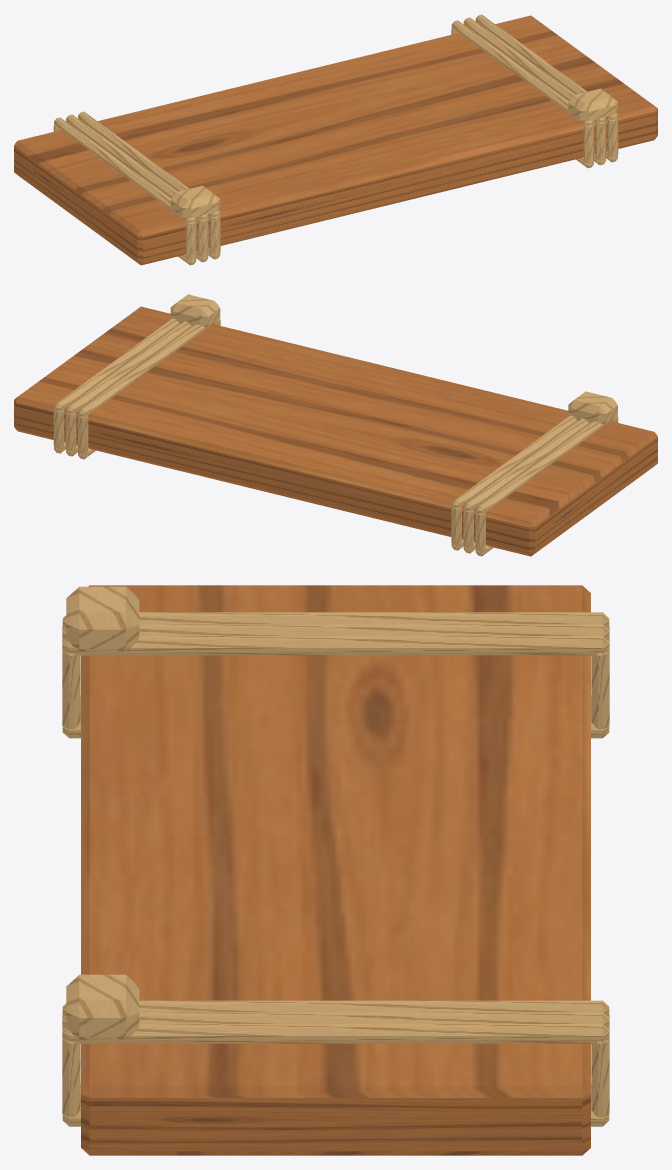
The model's file is bridge_board.glb.
The picture shows the model from 3 angles, top to bottom: view 1: azimuth 30°, elevation 25°; view 2: azimuth 150°, elevation 25°; view 3: azimuth 270°, elevation 25°; orthographic projection. The views are drawn at different scales.
Parts seen in each view (by area): view 1: wooden_plank, rope_wrap.001, rope_wrap.007, rope_wrap.003, rope_wrap.009, rope_wrap.005, rope_wrap.011, binding_knot, binding_knot.001, rope_edge.006, rope_edge.010, rope_edge.008 (+3 smaller); view 2: wooden_plank, rope_wrap.001, rope_wrap.007, rope_wrap.003, rope_wrap.005, rope_wrap.009, rope_wrap.011, binding_knot.001, binding_knot, rope_edge.007, rope_edge.009, rope_edge.011 (+3 smaller); view 3: wooden_plank, rope_wrap.011, rope_wrap.005, rope_wrap.001, rope_wrap.007, rope_wrap.003, rope_wrap.009, binding_knot, binding_knot.001, rope_edge.004, rope_edge.005, rope_edge.010 (+1 smaller).
Boxes of the visible parts, x1=… form: wooden_plank: x1=14, y1=15, x2=657, y2=265; rope_wrap.001: x1=54, y1=117, x2=196, y2=222; rope_wrap.007: x1=451, y1=20, x2=593, y2=125; rope_wrap.003: x1=66, y1=114, x2=208, y2=219; rope_wrap.009: x1=463, y1=17, x2=605, y2=122; rope_wrap.005: x1=78, y1=111, x2=220, y2=216; rope_wrap.011: x1=475, y1=14, x2=617, y2=119; binding_knot: x1=170, y1=185, x2=220, y2=219; binding_knot.001: x1=568, y1=88, x2=617, y2=122; rope_edge.006: x1=583, y1=123, x2=594, y2=163; rope_edge.010: x1=607, y1=118, x2=618, y2=157; rope_edge.008: x1=595, y1=121, x2=606, y2=160; wooden_plank: x1=14, y1=306, x2=657, y2=556; rope_wrap.001: x1=475, y1=415, x2=617, y2=513; rope_wrap.007: x1=78, y1=318, x2=219, y2=416; rope_wrap.003: x1=463, y1=418, x2=589, y2=510; rope_wrap.005: x1=451, y1=415, x2=577, y2=507; rope_wrap.009: x1=66, y1=321, x2=191, y2=413; rope_wrap.011: x1=54, y1=318, x2=179, y2=410; binding_knot.001: x1=170, y1=294, x2=220, y2=327; binding_knot: x1=568, y1=391, x2=617, y2=424; rope_edge.007: x1=77, y1=415, x2=88, y2=454; rope_edge.009: x1=65, y1=412, x2=76, y2=451; rope_edge.011: x1=53, y1=409, x2=64, y2=448; wooden_plank: x1=81, y1=585, x2=590, y2=1155; rope_wrap.011: x1=62, y1=1024, x2=609, y2=1043; rope_wrap.005: x1=62, y1=636, x2=609, y2=655; rope_wrap.001: x1=62, y1=612, x2=609, y2=627; rope_wrap.007: x1=62, y1=1000, x2=609, y2=1015; rope_wrap.003: x1=62, y1=624, x2=609, y2=639; rope_wrap.009: x1=62, y1=1012, x2=609, y2=1027; binding_knot: x1=66, y1=586, x2=139, y2=651; binding_knot.001: x1=66, y1=974, x2=139, y2=1039; rope_edge.004: x1=62, y1=649, x2=80, y2=728; rope_edge.005: x1=591, y1=649, x2=609, y2=728; rope_edge.010: x1=62, y1=1037, x2=80, y2=1116.
Size of the model in its own units: 1.65 by 0.19 by 0.751.
1 material, 1 textured.
